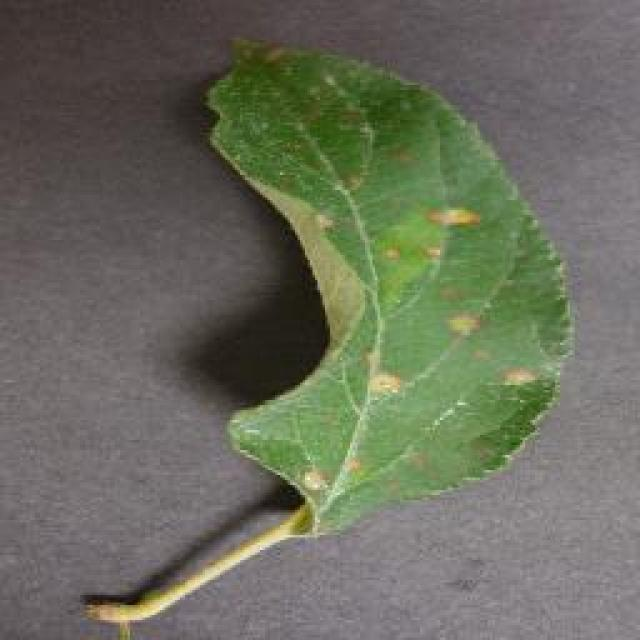apple cedar apple rust: (80, 33, 575, 635)
